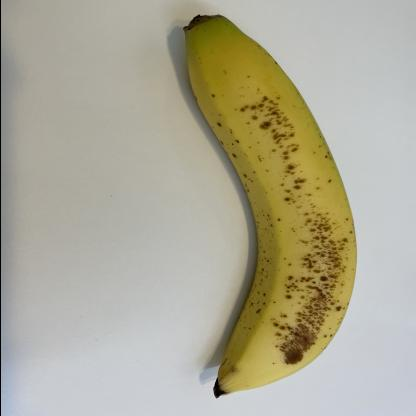banana: (181, 12, 360, 399)
